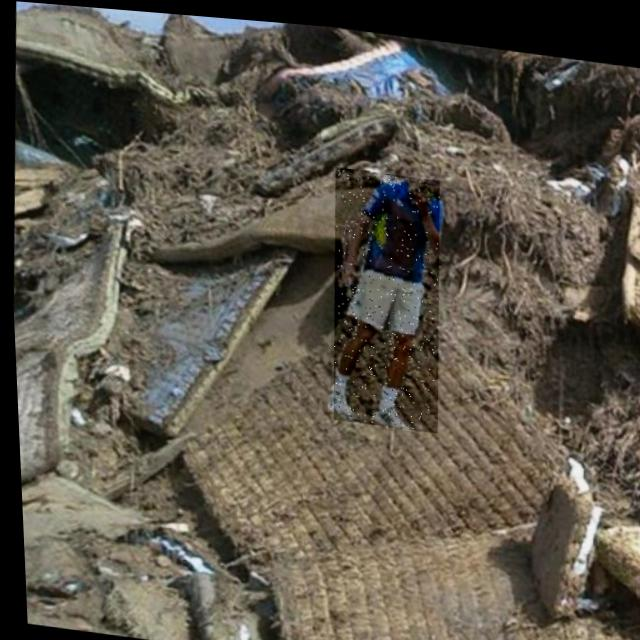Person in Rubble: (321, 161, 447, 427)
